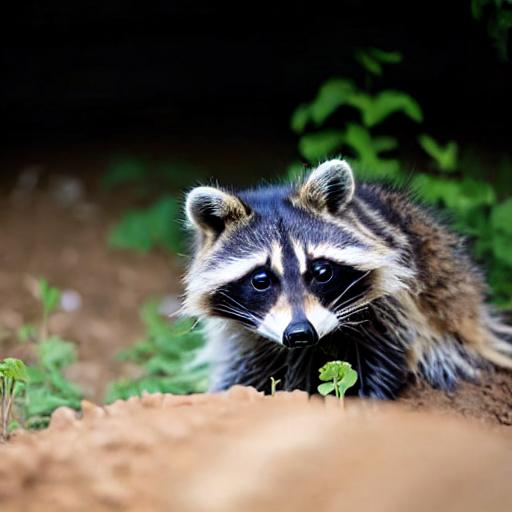raccoon: (172, 152, 512, 402)
